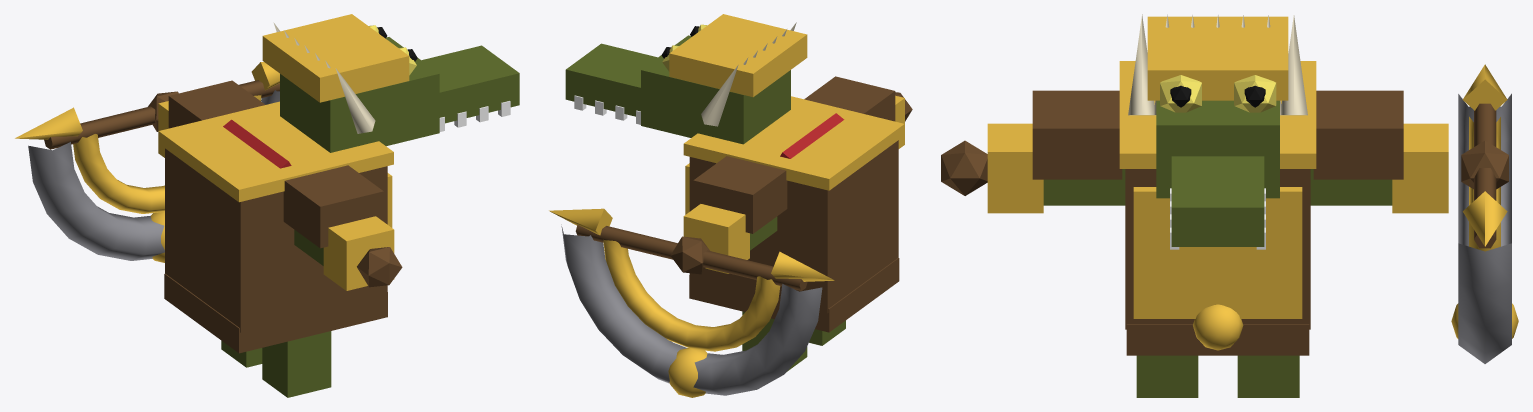
The model's file is level2.glb.
3 views of the same model, side by side, from view 1: azimuth 30°, elevation 25°; view 2: azimuth 150°, elevation 25°; view 3: azimuth 270°, elevation 25° (orthographic). The views are drawn at different scales.
Size of the model in its own units: 1.52 by 1.22 by 1.64.
